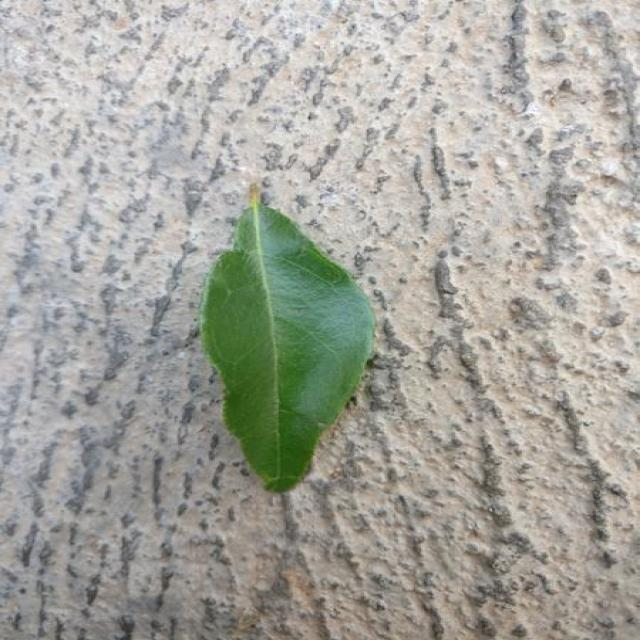curry: (200, 185, 375, 491)
